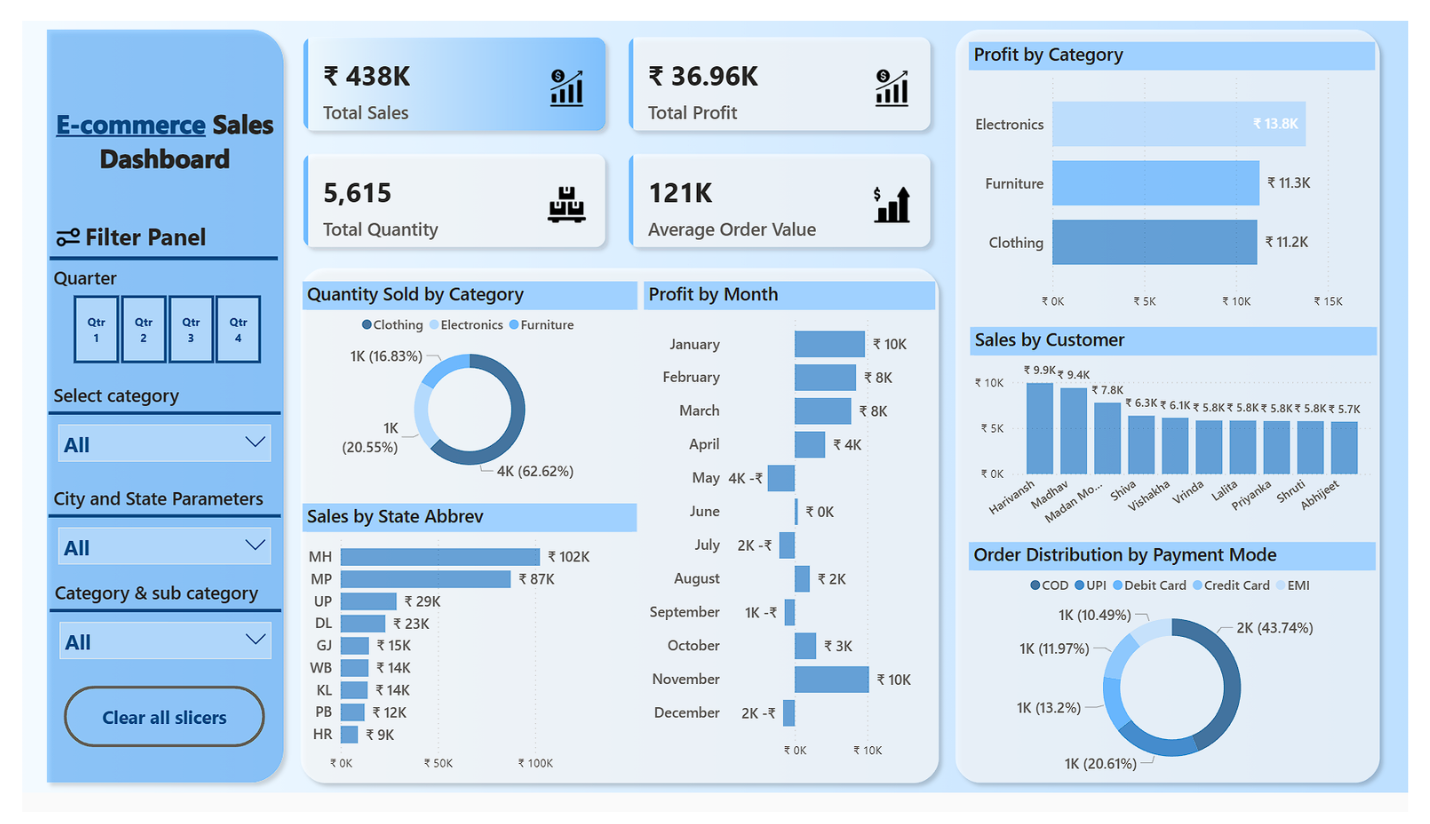

The page's visual inventory and layout, read from the dashboard file:
{"tool":"powerbi","page":{"name":"Page 1","canvas":[1400,800],"ordinal":2},"visuals":[{"type":"shape","box":[0,0,263.6,799.2],"z":0},{"type":"cardVisual","fields":{"Data":["DAX Measures.Total Sales","DAX Measures.Total Profit","DAX Measures.Unit Sold","Sum(Details.Average Order Value )"]},"box":[258.2,0,684,252.1],"z":1000},{"type":"textbox","box":[6.7,83.3,248.3,86.7],"z":2000},{"type":"shape","box":[263.1,246.7,679.8,552.3],"z":3000},{"type":"slicer","title":"Quarter ","fields":{"Values":["Orders.Order Date.Variation.Date Hierarchy.Quarter"]},"box":[10.8,253.6,244.4,109.1],"z":4000},{"type":"barChart","fields":{"Category":["Orders.Order Date.Variation.Date Hierarchy.Month"],"Y":["DAX Measures.Total Profit"]},"box":[627.5,270.8,302.5,505],"z":5000},{"type":"shape","box":[942.3,0,458.1,799.3],"z":6000},{"type":"donutChart","title":"Order Distribution by Payment Mode","fields":{"Y":["DAX Measures.Unit Sold"],"Category":["Details.PaymentMode"]},"box":[965,540,421.7,248.3],"z":7000},{"type":"donutChart","title":"Quantity Sold by Category","fields":{"Category":["Details.Product Hierarchy.Category","Details.Product Hierarchy.Sub-Category"],"Y":["DAX Measures.Unit Sold"]},"box":[273.6,270.5,347.4,212.1],"z":8000},{"type":"shape","box":[11.8,240,236.4,12.7],"z":9000},{"type":"textbox","box":[44,202,190,44],"z":10000},{"type":"textbox","box":[73.1,523.8,141.1,47.6],"z":11000},{"type":"slicer","title":"City and State Parameters","fields":{"Values":["Parameter.Parameter"]},"box":[11.2,482.7,240.6,89.2],"z":12000},{"type":"slicer","title":"Category & sub category ","fields":{"Values":["Parameter.Parameter"]},"box":[12.3,581,239.8,83],"z":13000},{"type":"actionButton","box":[27.1,689.8,208.7,63.7],"z":14000},{"type":"clusteredColumnChart","title":"Sales by Customer","fields":{"Category":["Orders.Customer Name"],"Y":["DAX Measures.Total Sales"]},"box":[965.9,318,421.7,217.7],"z":15000},{"type":"image","box":[12.5,201.2,38.8,46.2],"z":16000},{"type":"slicer","title":"Select category ","fields":{"Values":["Details.Product Hierarchy.Category"]},"box":[11.2,376,240.6,90.8],"z":17000},{"type":"barChart","fields":{"Category":["Orders.State Abbrev","Orders.City"],"Y":["DAX Measures.Total Sales"]},"box":[273.8,500.3,346.7,287.6],"z":18000},{"type":"barChart","fields":{"Category":["Details.Category","Details.Sub-Category"],"Y":["DAX Measures.Total Profit"]},"box":[965.3,21.5,421.2,287.4],"z":19000}]}

Visuals, with their boxes in screenshot pixels (x1, y1, x2, y2), scaled from the page's 1400x800 canvas onto the 1430x824 screenshot:
shape: Rect(0, 0, 269, 823)
cardVisual - DAX Measures.Total Sales x DAX Measures.Total Profit: Rect(264, 0, 962, 260)
textbox: Rect(7, 86, 260, 175)
shape: Rect(269, 254, 963, 823)
"Quarter " slicer: Rect(11, 261, 261, 374)
barChart - Orders.Order Date.Variation.Date Hierarchy.Month x DAX Measures.Total Profit: Rect(641, 279, 950, 799)
shape: Rect(962, 0, 1429, 823)
"Order Distribution by Payment Mode" donutChart: Rect(986, 556, 1416, 812)
"Quantity Sold by Category" donutChart: Rect(279, 279, 634, 497)
shape: Rect(12, 247, 254, 260)
textbox: Rect(45, 208, 239, 253)
textbox: Rect(75, 540, 219, 589)
"City and State Parameters" slicer: Rect(11, 497, 257, 589)
"Category & sub category " slicer: Rect(13, 598, 258, 684)
actionButton: Rect(28, 710, 241, 776)
"Sales by Customer" clusteredColumnChart: Rect(987, 328, 1417, 552)
image: Rect(13, 207, 52, 255)
"Select category " slicer: Rect(11, 387, 257, 481)
barChart - Orders.State Abbrev x Orders.City: Rect(280, 515, 634, 812)
barChart - Details.Category x Details.Sub-Category: Rect(986, 22, 1416, 318)
